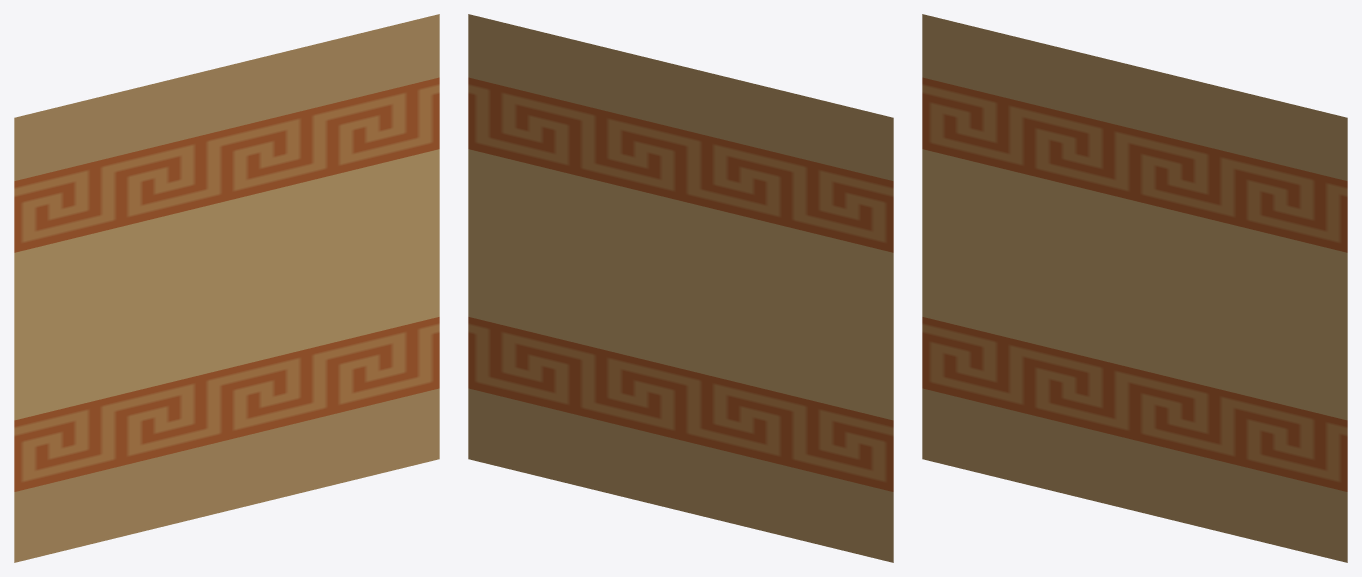
File: ST_Env_Wall_02.fbx
3 views of the same model, side by side, from view 1: azimuth 30°, elevation 25°; view 2: azimuth 150°, elevation 25°; view 3: azimuth 330°, elevation 25° (orthographic).
Visible parts, largest first — view 1: ST_Env_Wall_02; view 2: ST_Env_Wall_02; view 3: ST_Env_Wall_02.
Part boxes in pixels (x1,y1,x2,y2): ST_Env_Wall_02: (14, 14, 439, 562); ST_Env_Wall_02: (468, 14, 893, 562); ST_Env_Wall_02: (922, 14, 1347, 562).
Bounding box in the file's own units: 5 × 5 × 0.
